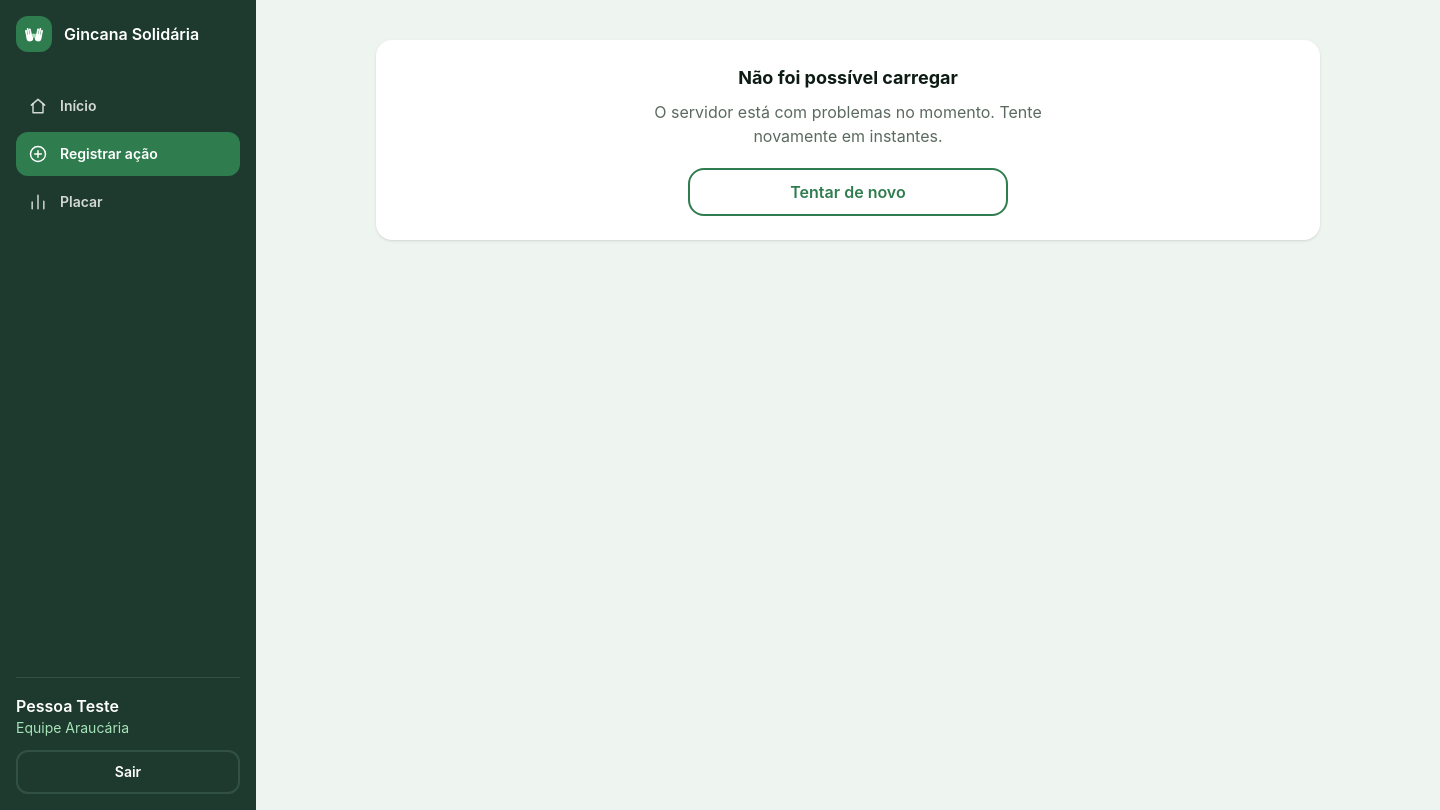
Test case: Escolher ação (US06) › avisa em português quando as ações não carregam e deixa tentar de novo
The width and height of the screenshot is (1440, 810).
Expected: the message shows "servidor está com problemas", [654, 102, 1042, 146]
Click the button "Tentar de novo". click: [848, 192]
box: [688, 168, 1008, 216]
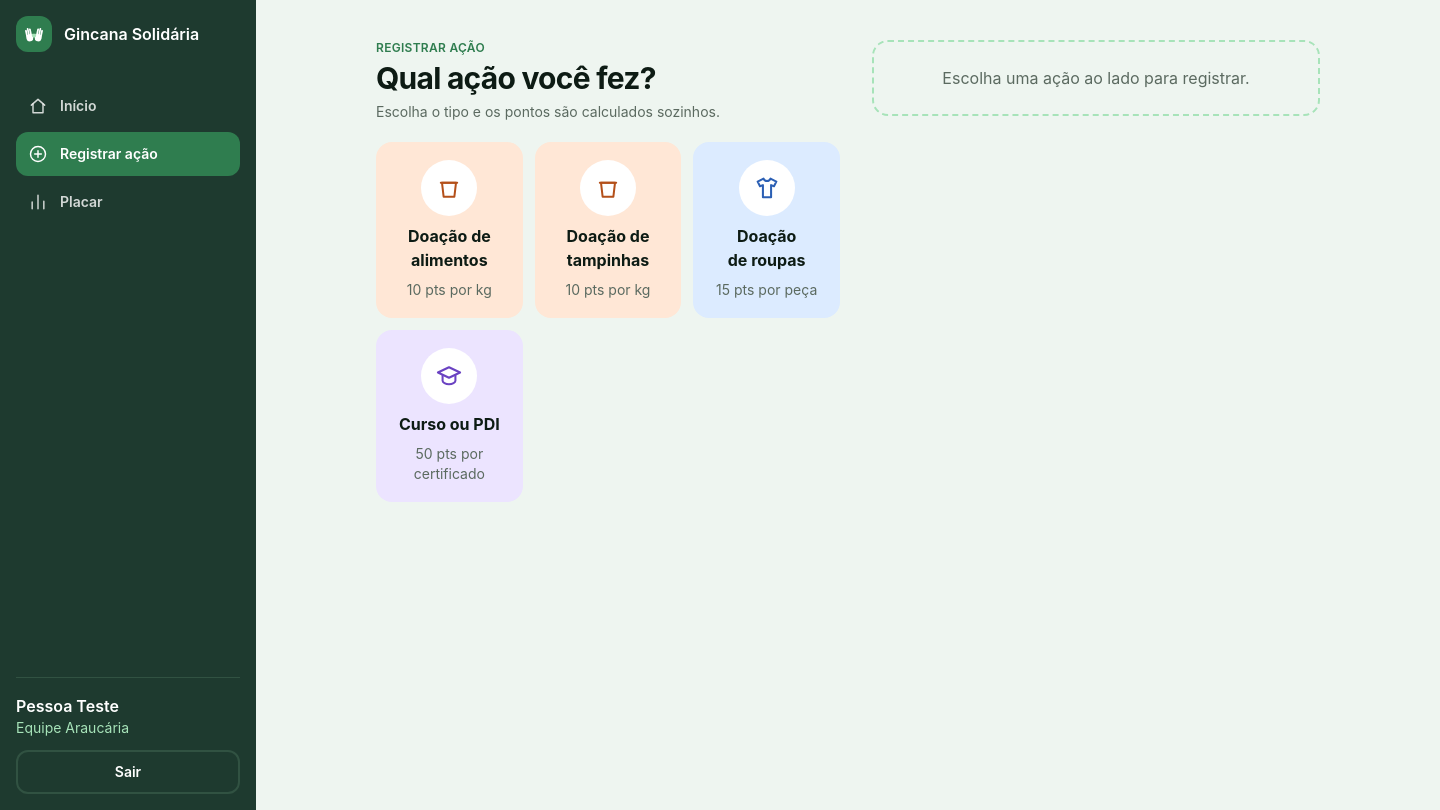
Expected: the link "Doação de alimentos 10 pts por kg" is shown, [376, 142, 523, 318]
